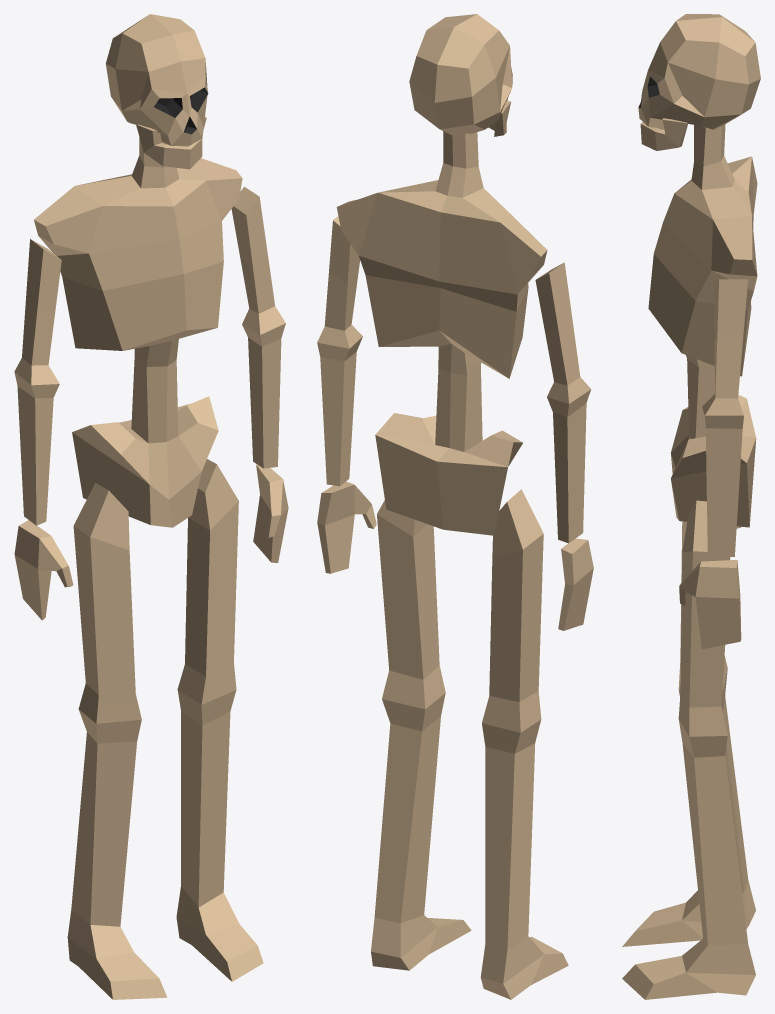
The model's file is people_skeleton.fbx.
3 views of the same model, side by side, from view 1: azimuth 30°, elevation 25°; view 2: azimuth 150°, elevation 25°; view 3: azimuth 270°, elevation 25° (orthographic).
Visible parts, largest first — view 1: people_skeleton; view 2: people_skeleton; view 3: people_skeleton.
Part boxes in pixels (x1=…): people_skeleton: x1=14, y1=14, x2=288, y2=999; people_skeleton: x1=317, y1=14, x2=593, y2=999; people_skeleton: x1=622, y1=14, x2=760, y2=999.
Bounding box in the file's own units: 56.58 × 199 × 26.56.
